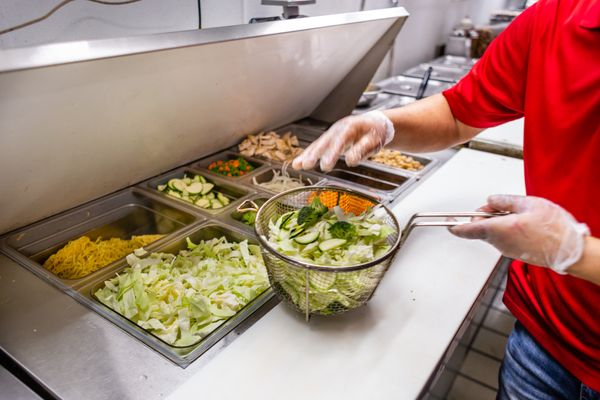sushi: (254, 185, 399, 319)
